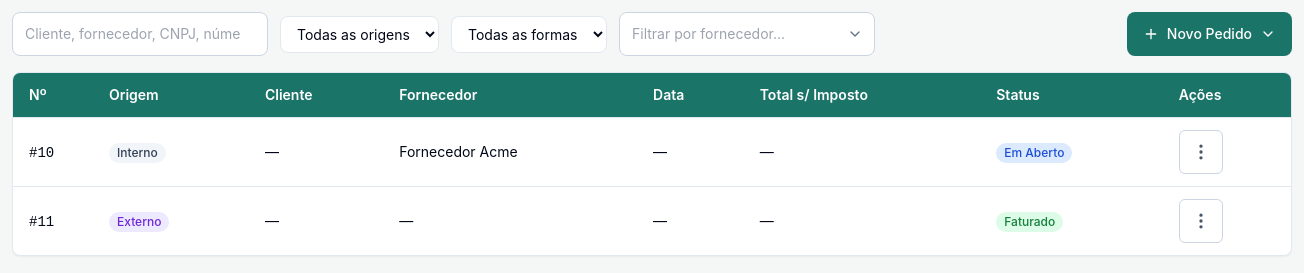
Test case: Pedidos — menu de ações › esconde duplicação e cancelamento sem as permissões correspondentes
The image size is (1304, 273).
Click the button named "Opções do pedido #10" at (1201, 152), box [1179, 130, 1223, 174]
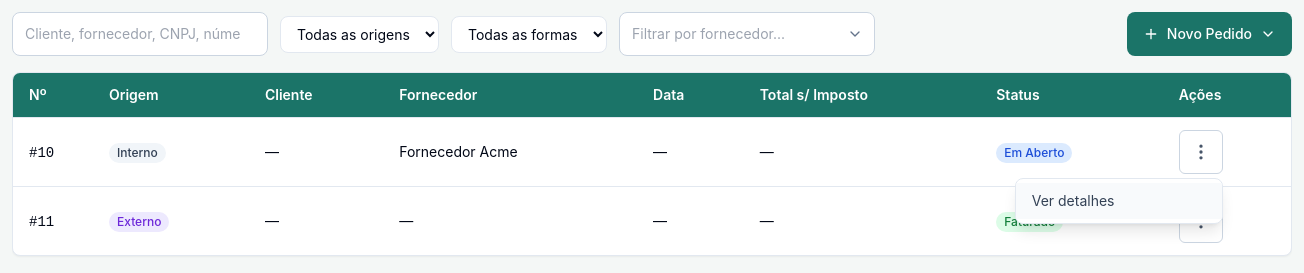
Result: the menu item "Ver detalhes" is shown at [1016, 183, 1222, 219]
